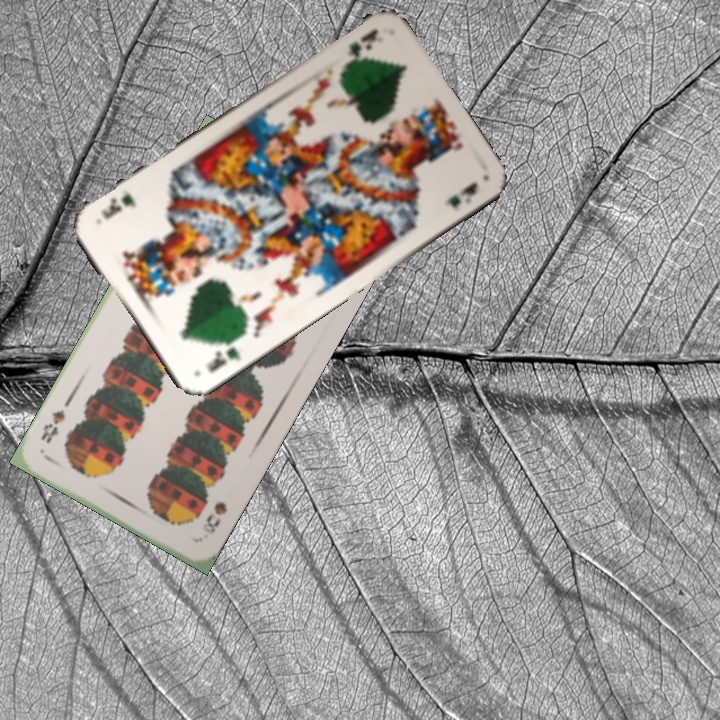GK: (335, 25, 381, 70), (202, 334, 243, 376)
S8: (202, 497, 230, 536)
